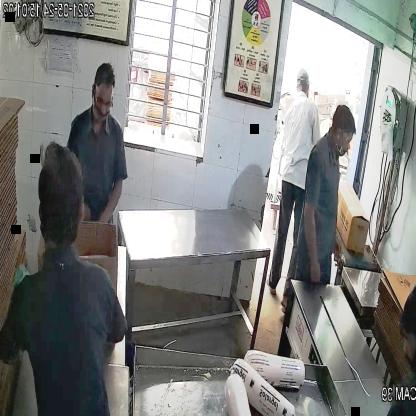goggles: (90, 90, 116, 112)
